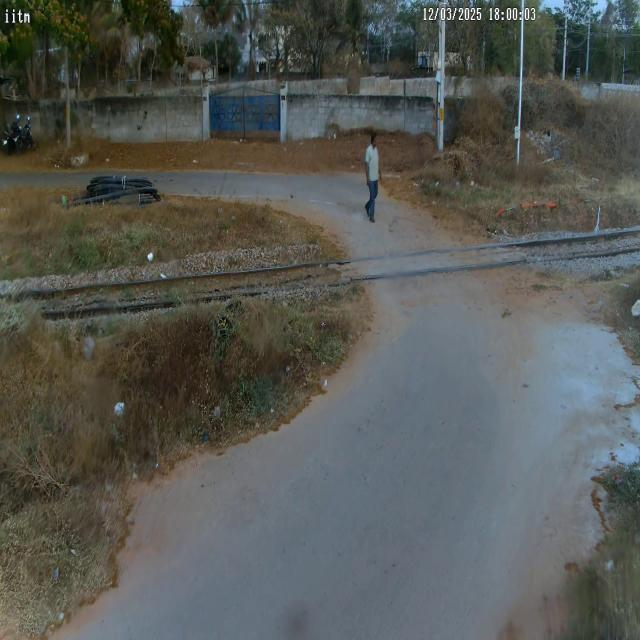objects: (360, 125, 386, 230)
